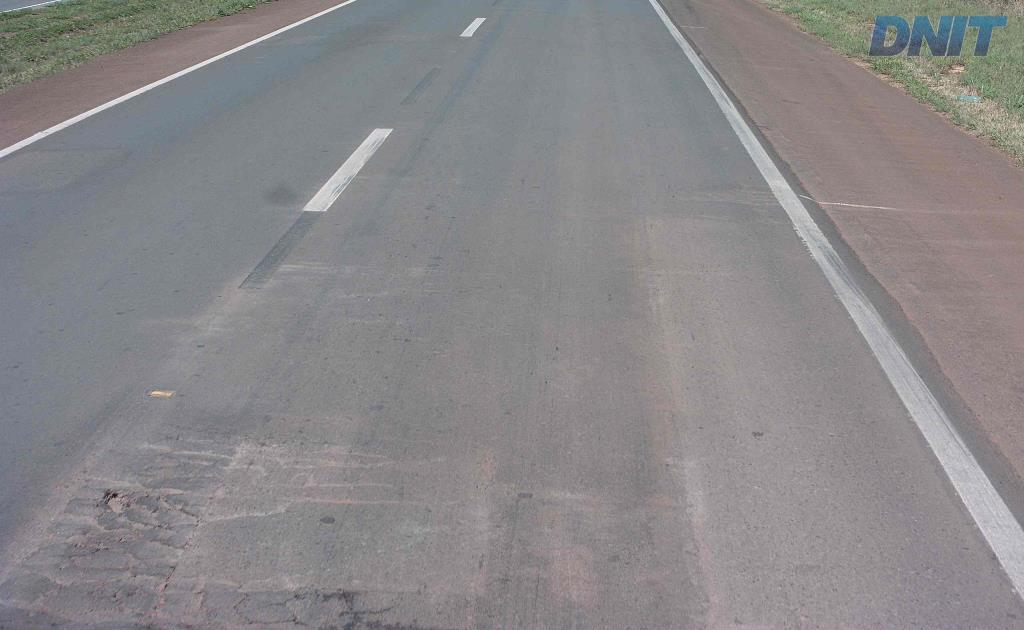crack: (321, 588, 366, 629)
pothole: (102, 487, 133, 517)
